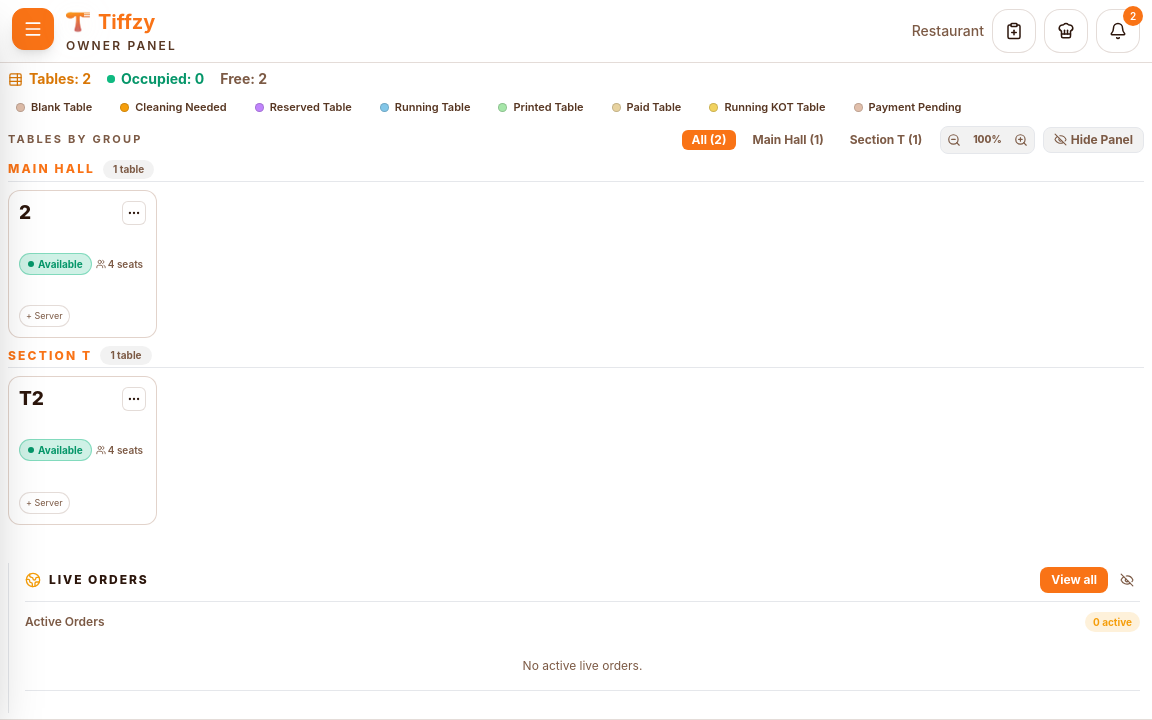
Test: Owner Tables QA — 10 REGRESSION SCENARIOS TEST SUITE › TEST 3: Assign Server B to T2 -> T2 = Server B, Table 2 = Server A
# Assign Server A to Table 2
Click the 1st button titled "Assign server for Table 2".
click(44, 316)  # box left=19, top=305, right=70, bottom=327
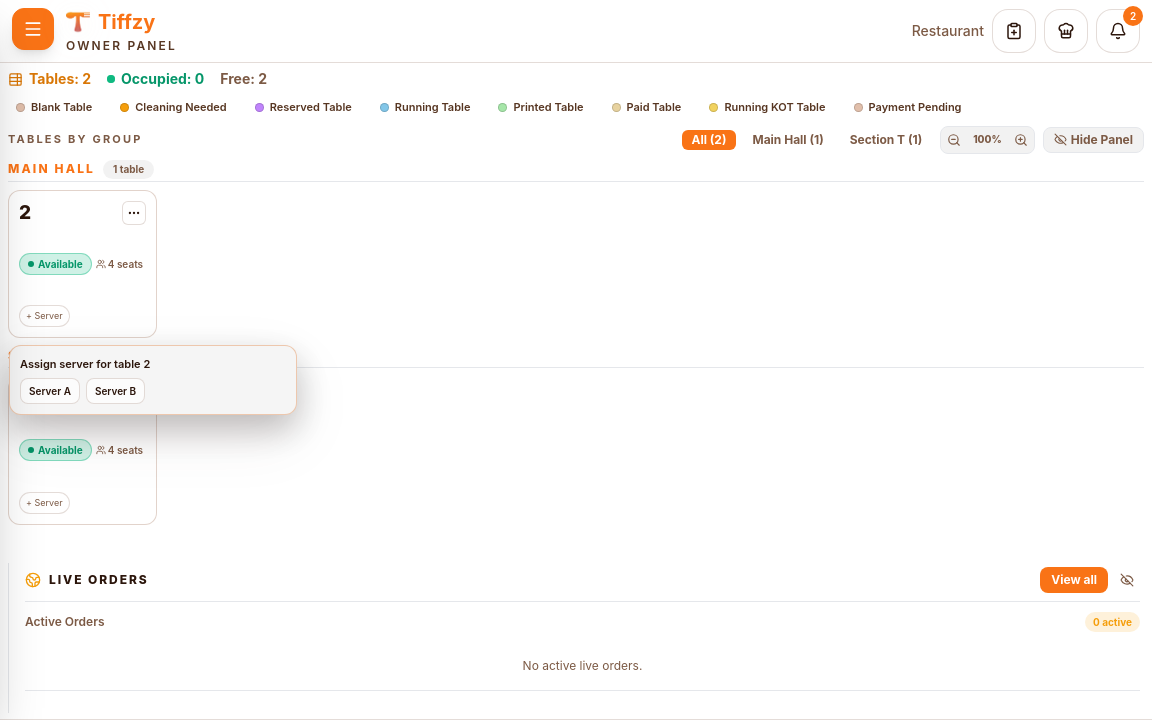
Now the button "Server A" is shown
Click the button "Server A".
click(50, 391)  # box left=20, top=378, right=80, bottom=404
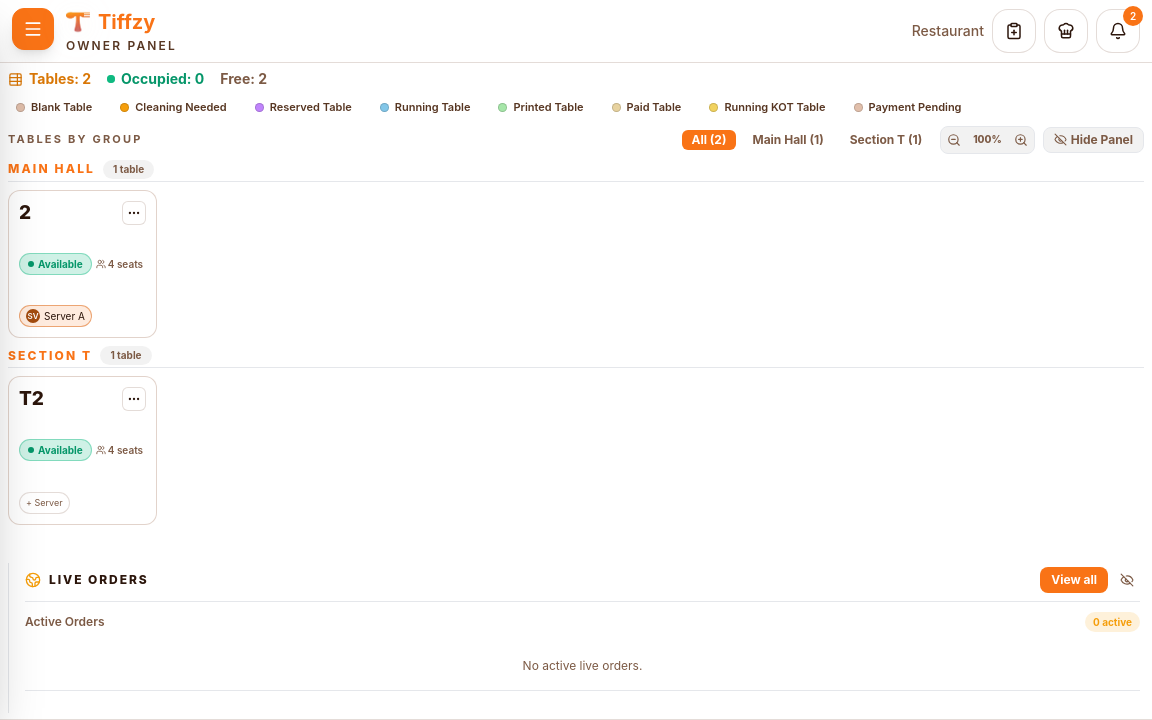
Now the button titled "Assigned: Server A - Server" is shown, box left=19, top=305, right=92, bottom=327
# Assign Server B to T2
Click the button titled "Assign server for Table T2".
click(44, 503)  # box left=19, top=492, right=70, bottom=514
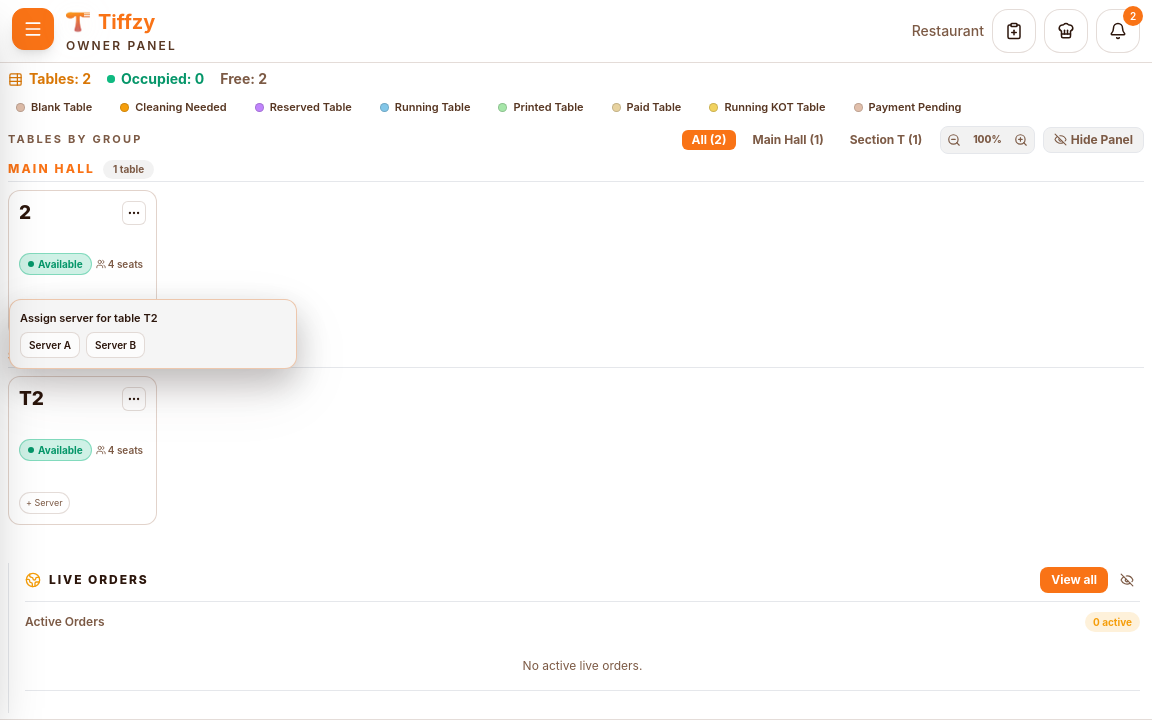
Now the button "Server B" is shown
Click the button "Server B".
click(116, 345)  # box left=86, top=332, right=145, bottom=358
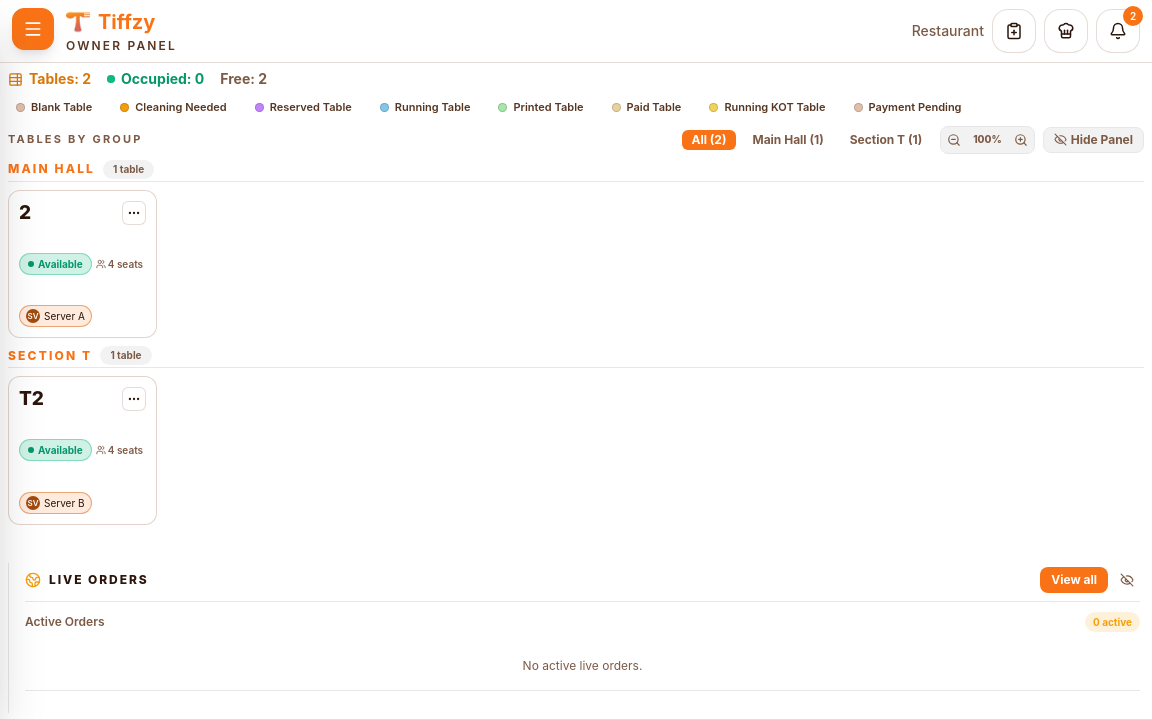
Now the button titled "Assigned: Server A - Server" is shown, box left=19, top=305, right=92, bottom=327
Now the button titled "Assigned: Server B - Server" is shown, box left=19, top=492, right=92, bottom=514
